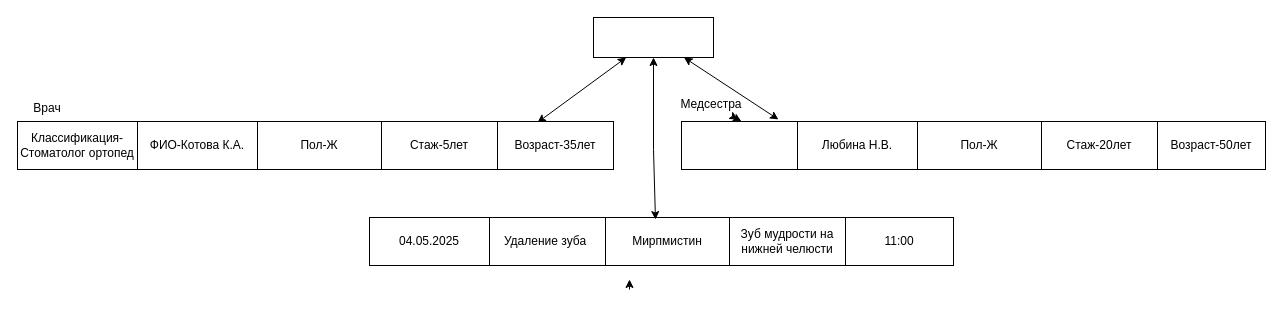
This 1283x315 diagram has some shape labels left out. The box of each missing label's shape, as (x1, y1, x2, y2) in pixels:
БД Стоматологии: (592, 16, 714, 58)
Процедурная медсестра: (680, 120, 802, 170)
